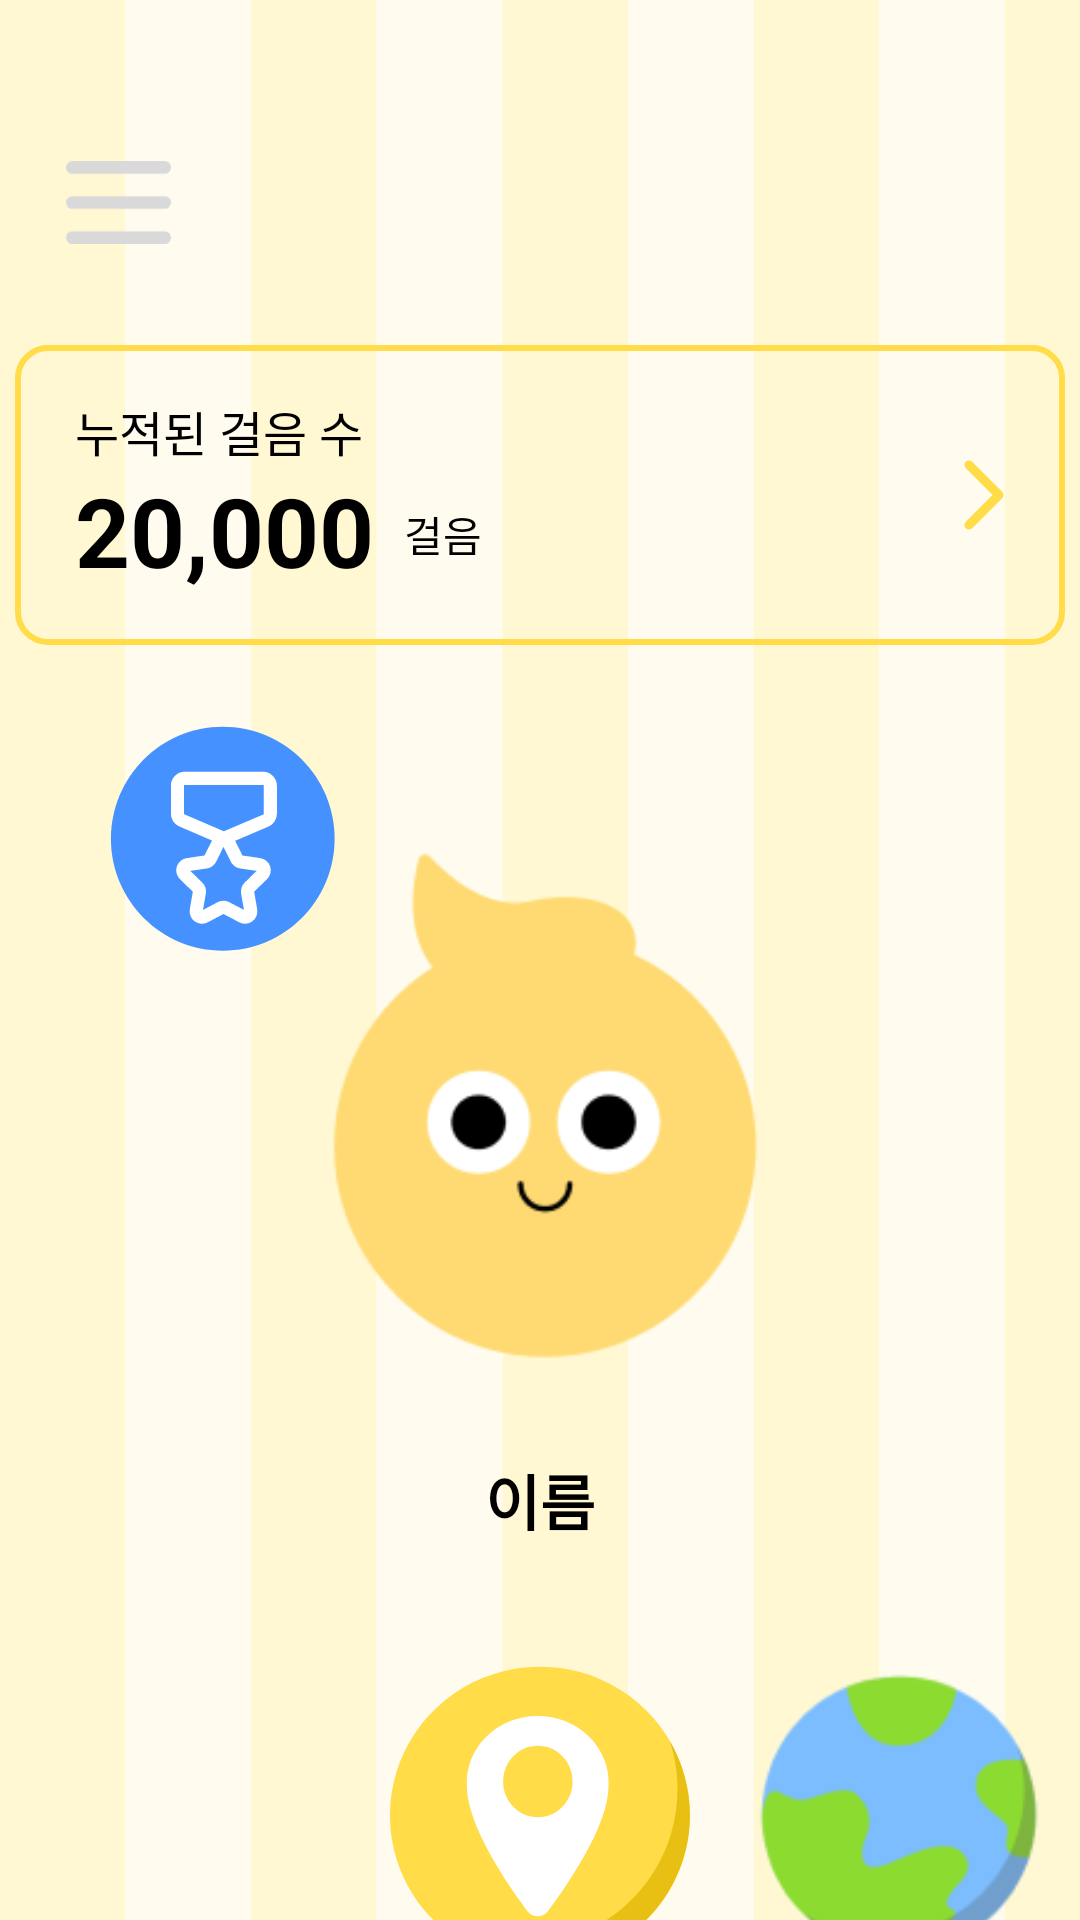

Where to tap for icons on this 1080px×1920px app screen, as (x,y):
chahome badge: (223,840)
hamburger: (118,202)
right: (984,495)
